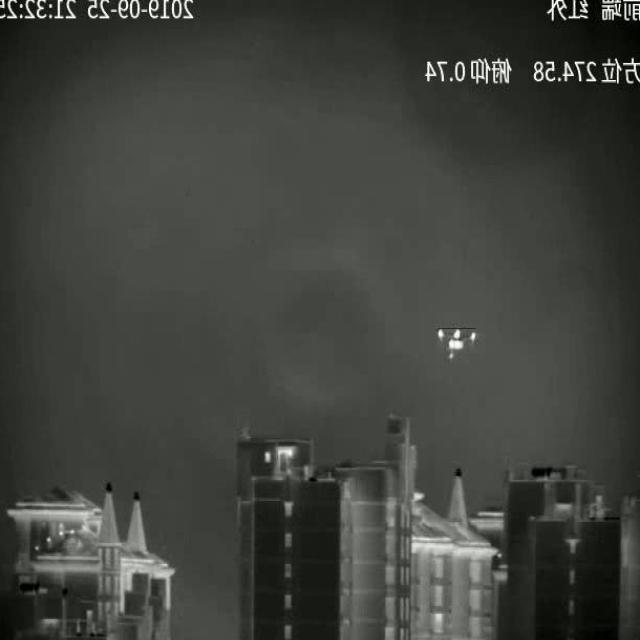drone: (438, 329, 476, 361)
